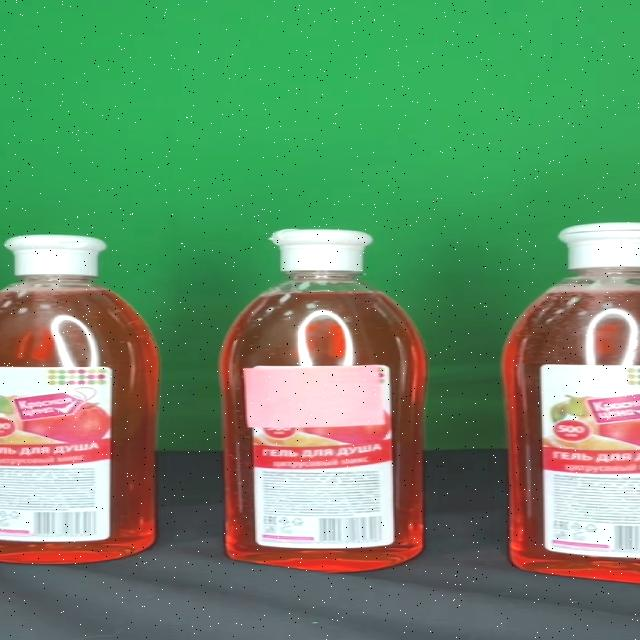Bottle: (220, 229, 427, 572), (0, 235, 161, 564)
Cap: (268, 230, 372, 272), (3, 235, 107, 276)
